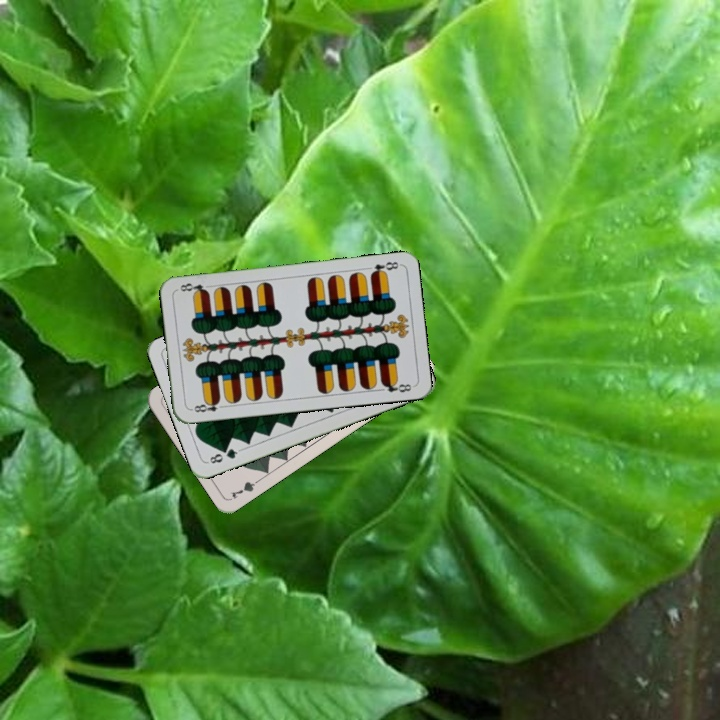E8: (187, 396, 228, 415), (366, 257, 402, 278)
G7: (226, 474, 264, 501)
G8: (204, 444, 243, 466)
